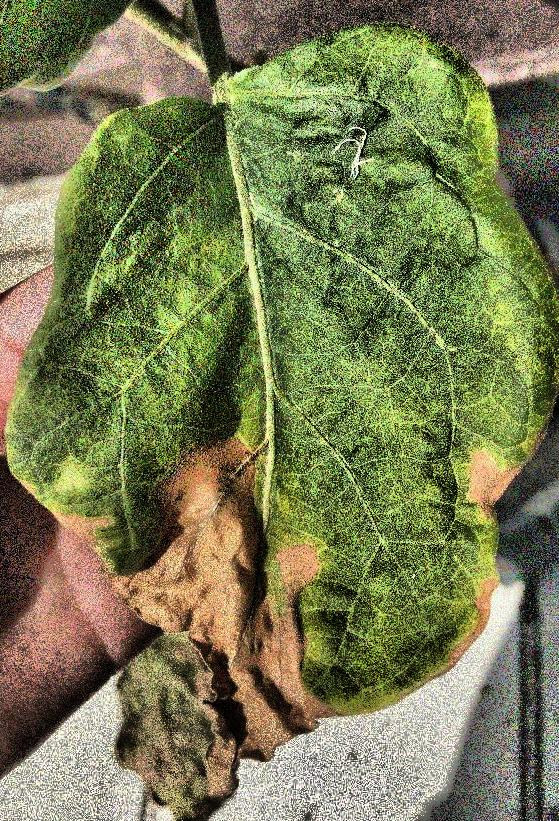Critical Stress: (1, 0, 559, 821)
